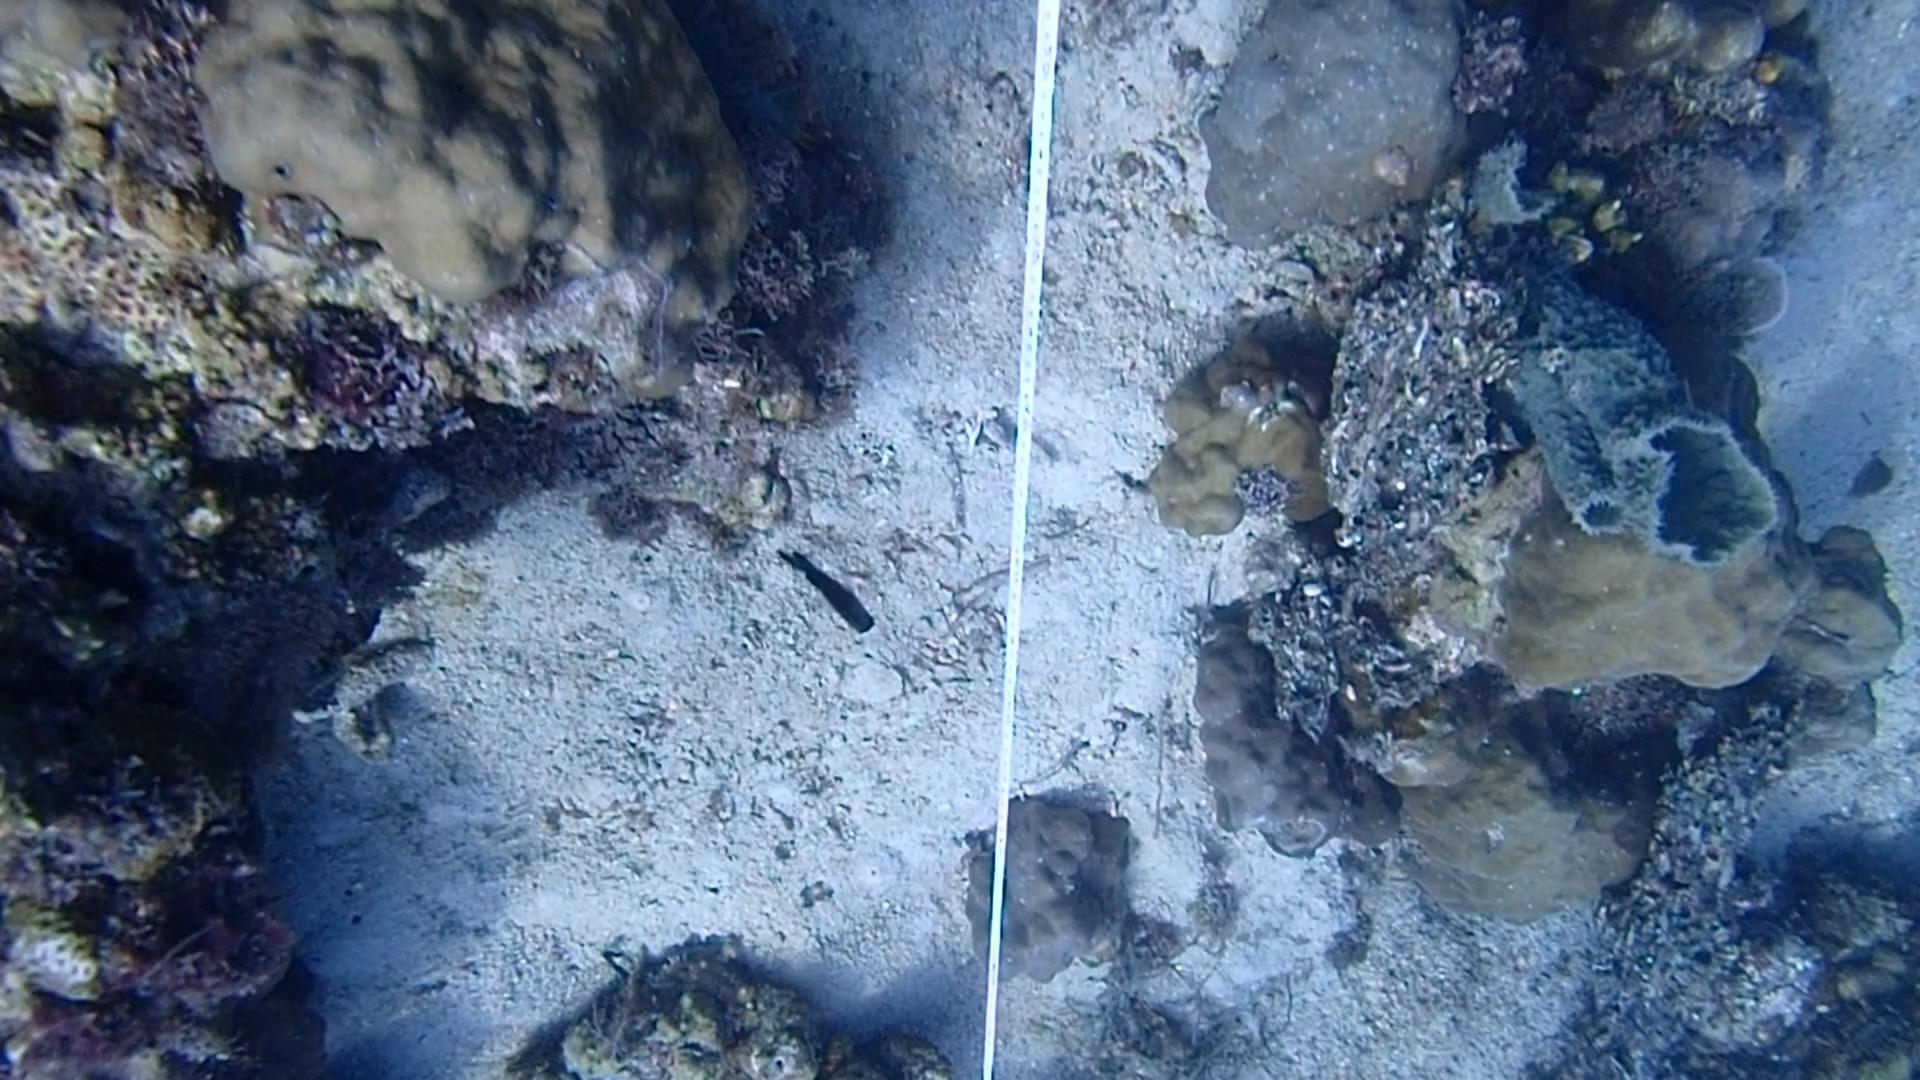Dark Fish: (762, 530, 886, 653)
